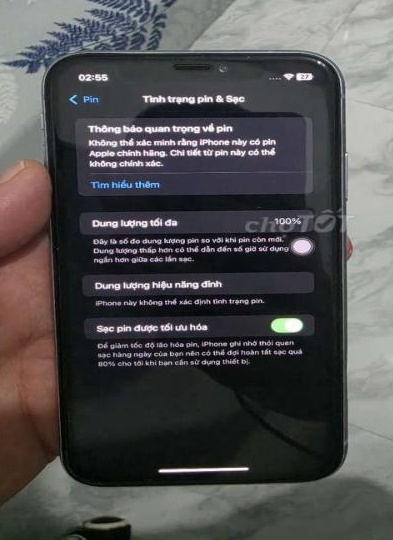scratch: (154, 44, 261, 67)
